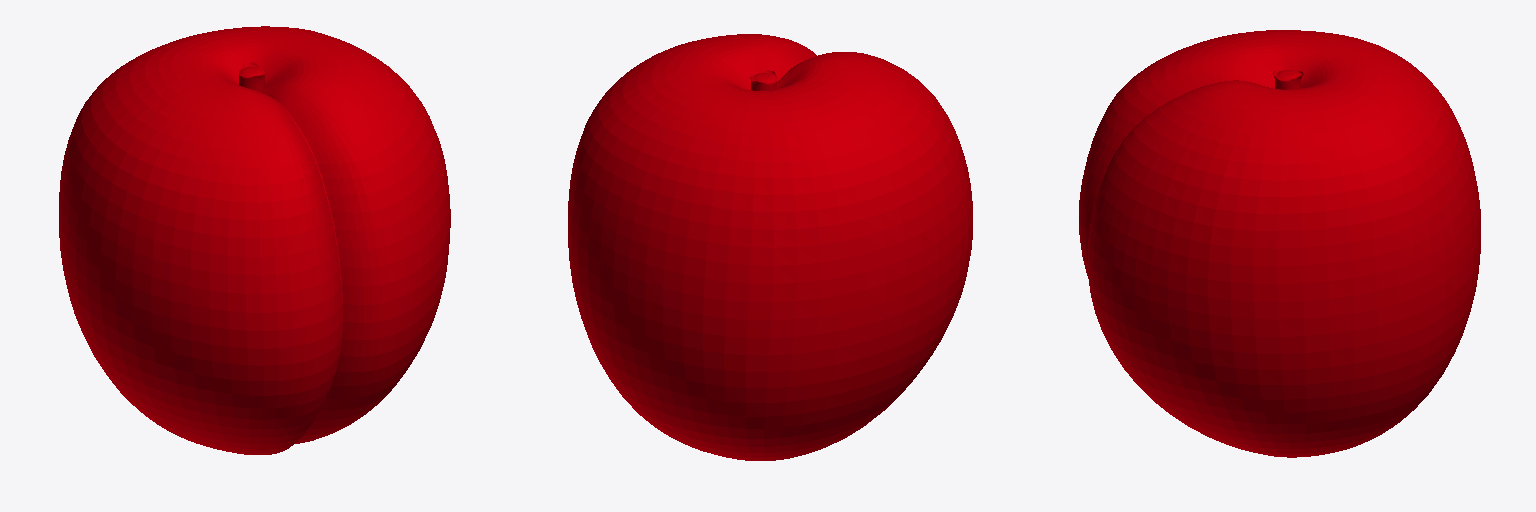
File: apple.obj
3 renders of one model, left to right at view 1: azimuth 30°, elevation 25°; view 2: azimuth 150°, elevation 25°; view 3: azimuth 270°, elevation 25°, orthographic.
Parts seen in each view (by area): view 1: pomme; view 2: pomme; view 3: pomme.
Part boxes in pixels (left/top/right/bottom): pomme: left=59, top=26, right=450, bottom=454; pomme: left=568, top=34, right=972, bottom=460; pomme: left=1079, top=30, right=1480, bottom=457.
Size of the model in its own units: 1.42 by 1.51 by 1.45.